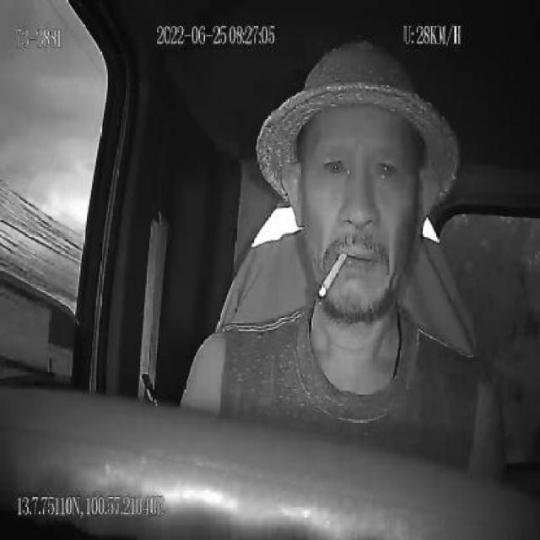smoking: (317, 250, 348, 298)
